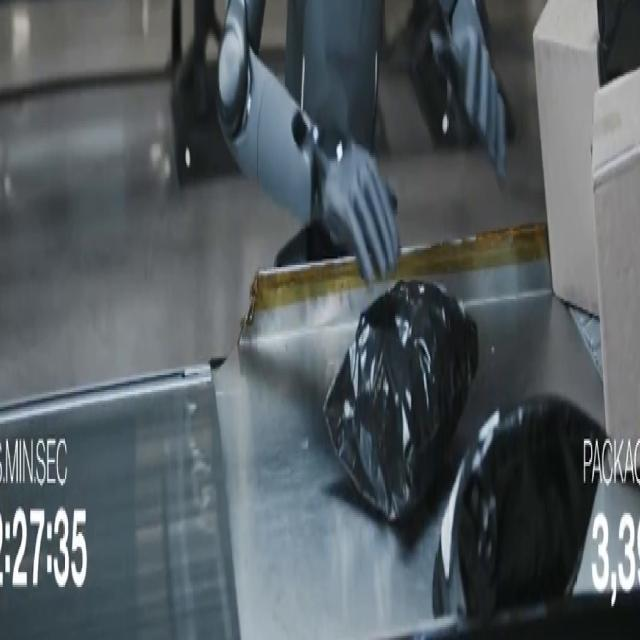package: (433, 397, 605, 618), (324, 282, 478, 521), (533, 0, 599, 315), (593, 70, 639, 442)
